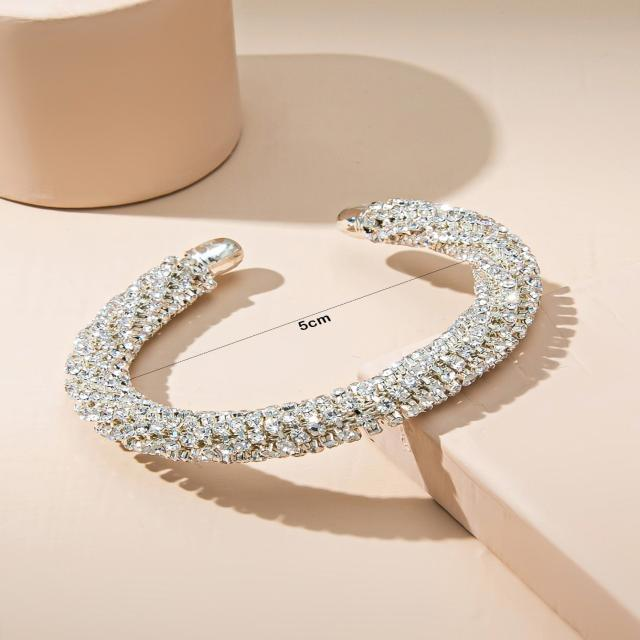bracelet: (23, 166, 596, 548)
